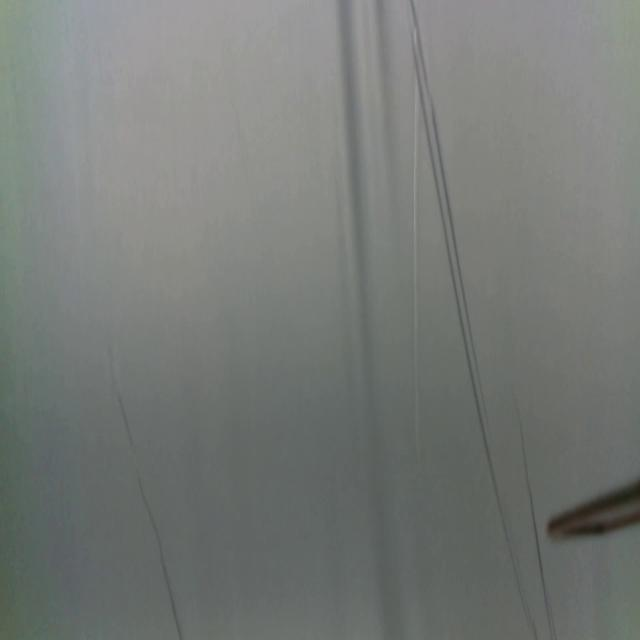crease: (411, 2, 526, 628), (116, 394, 182, 640), (520, 409, 552, 636), (411, 87, 419, 478)
